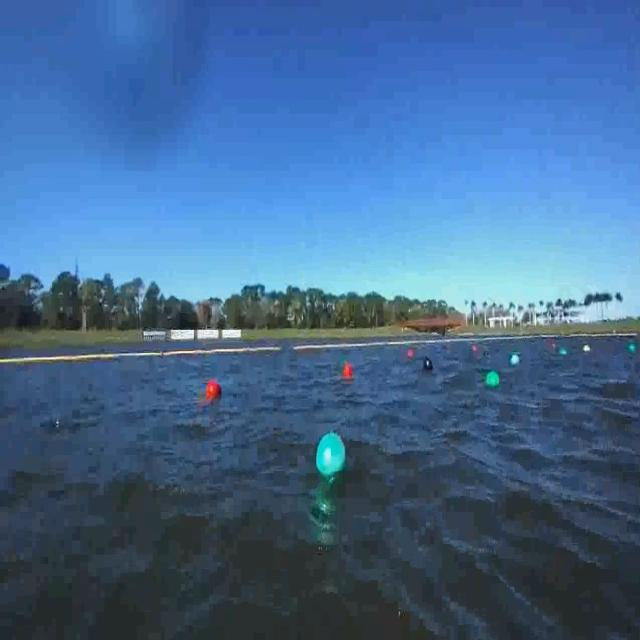black-buoy: (423, 356, 433, 371)
green-buoy: (316, 433, 347, 481), (486, 372, 501, 390)
red-buoy: (206, 378, 222, 400), (344, 362, 354, 381)
